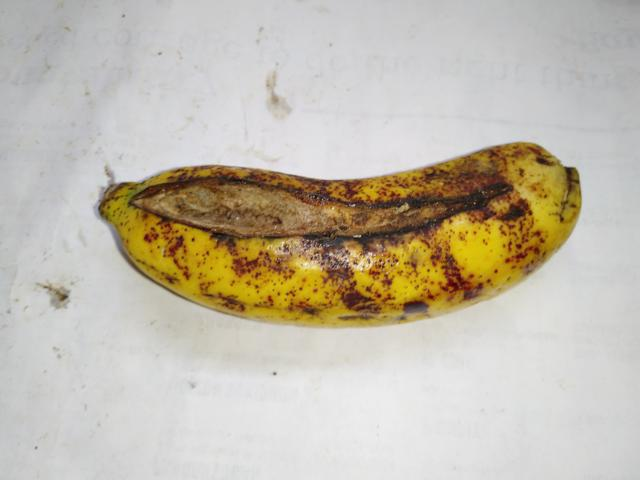rotten: (122, 142, 527, 285)
